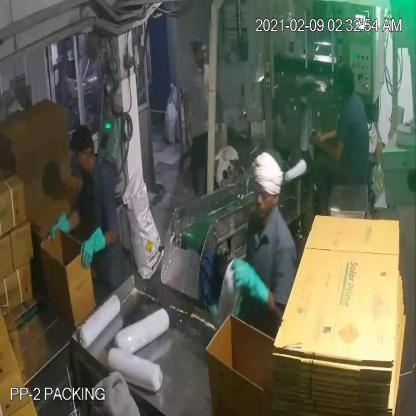glove: (224, 248, 281, 320), (78, 226, 111, 274), (49, 208, 75, 245)
no_glove: (307, 121, 356, 169), (179, 86, 199, 154)
